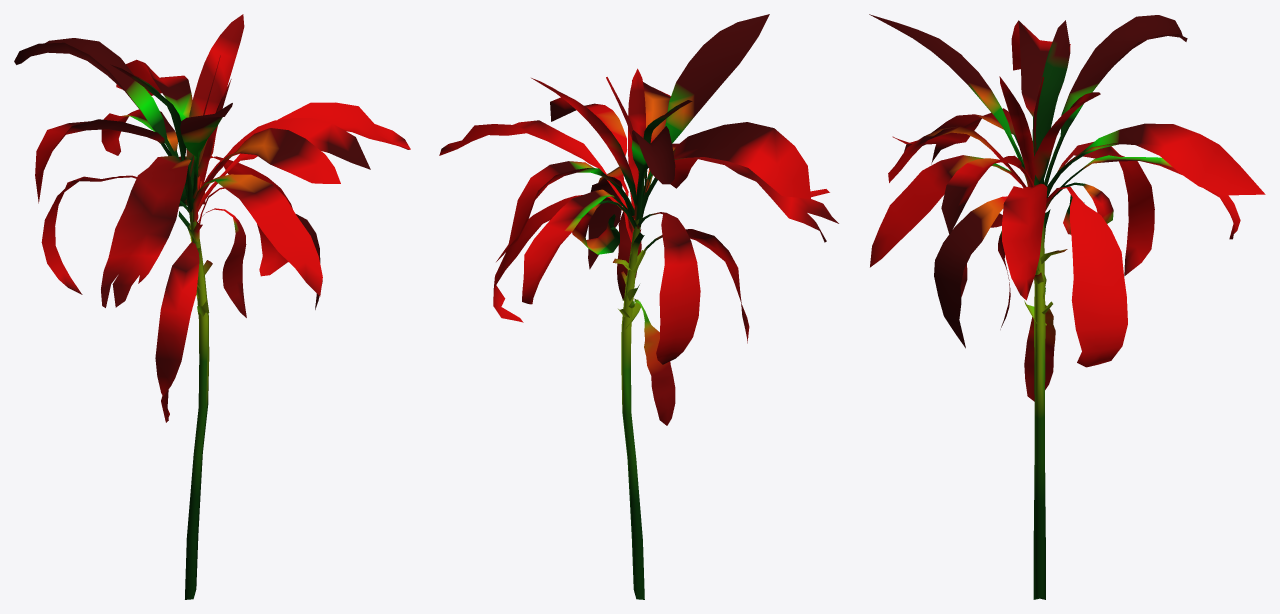
File: Var12_LOD0.fbx
The picture shows the model from 3 angles, left to right: view 1: azimuth 30°, elevation 25°; view 2: azimuth 150°, elevation 25°; view 3: azimuth 270°, elevation 25°; orthographic projection. The views are drawn at different scales.
Visible parts, largest first — view 1: _96bd_Var12_LOD0; view 2: _96bd_Var12_LOD0; view 3: _96bd_Var12_LOD0.
Part boxes in pixels (x1,y1,x2,y2): _96bd_Var12_LOD0: [14, 14, 410, 599]; _96bd_Var12_LOD0: [439, 14, 838, 599]; _96bd_Var12_LOD0: [869, 14, 1265, 599].
Bounding box in the file's own units: 29.72 × 41.7 × 26.71.
